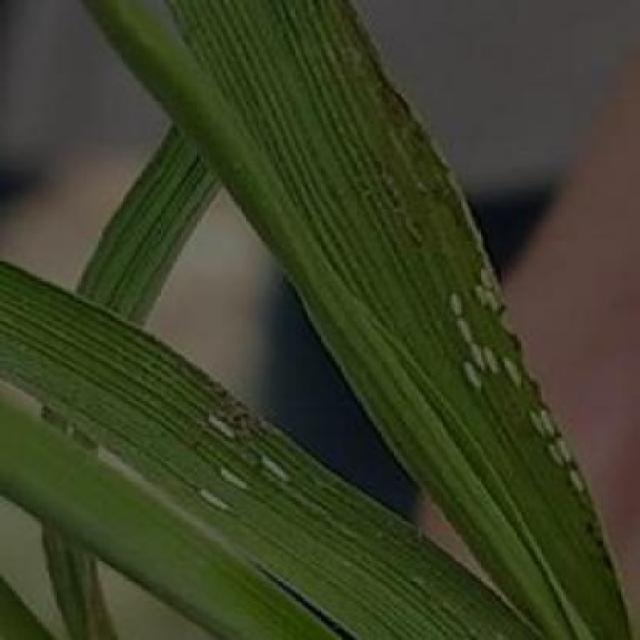whorl-maggot: (184, 409, 250, 445), (243, 446, 294, 486), (203, 466, 251, 494), (558, 467, 596, 502), (492, 348, 522, 390), (192, 486, 230, 517), (466, 262, 503, 290), (460, 358, 485, 399), (522, 412, 552, 442), (462, 344, 495, 371), (448, 319, 483, 343), (442, 286, 466, 320), (542, 443, 570, 465)
